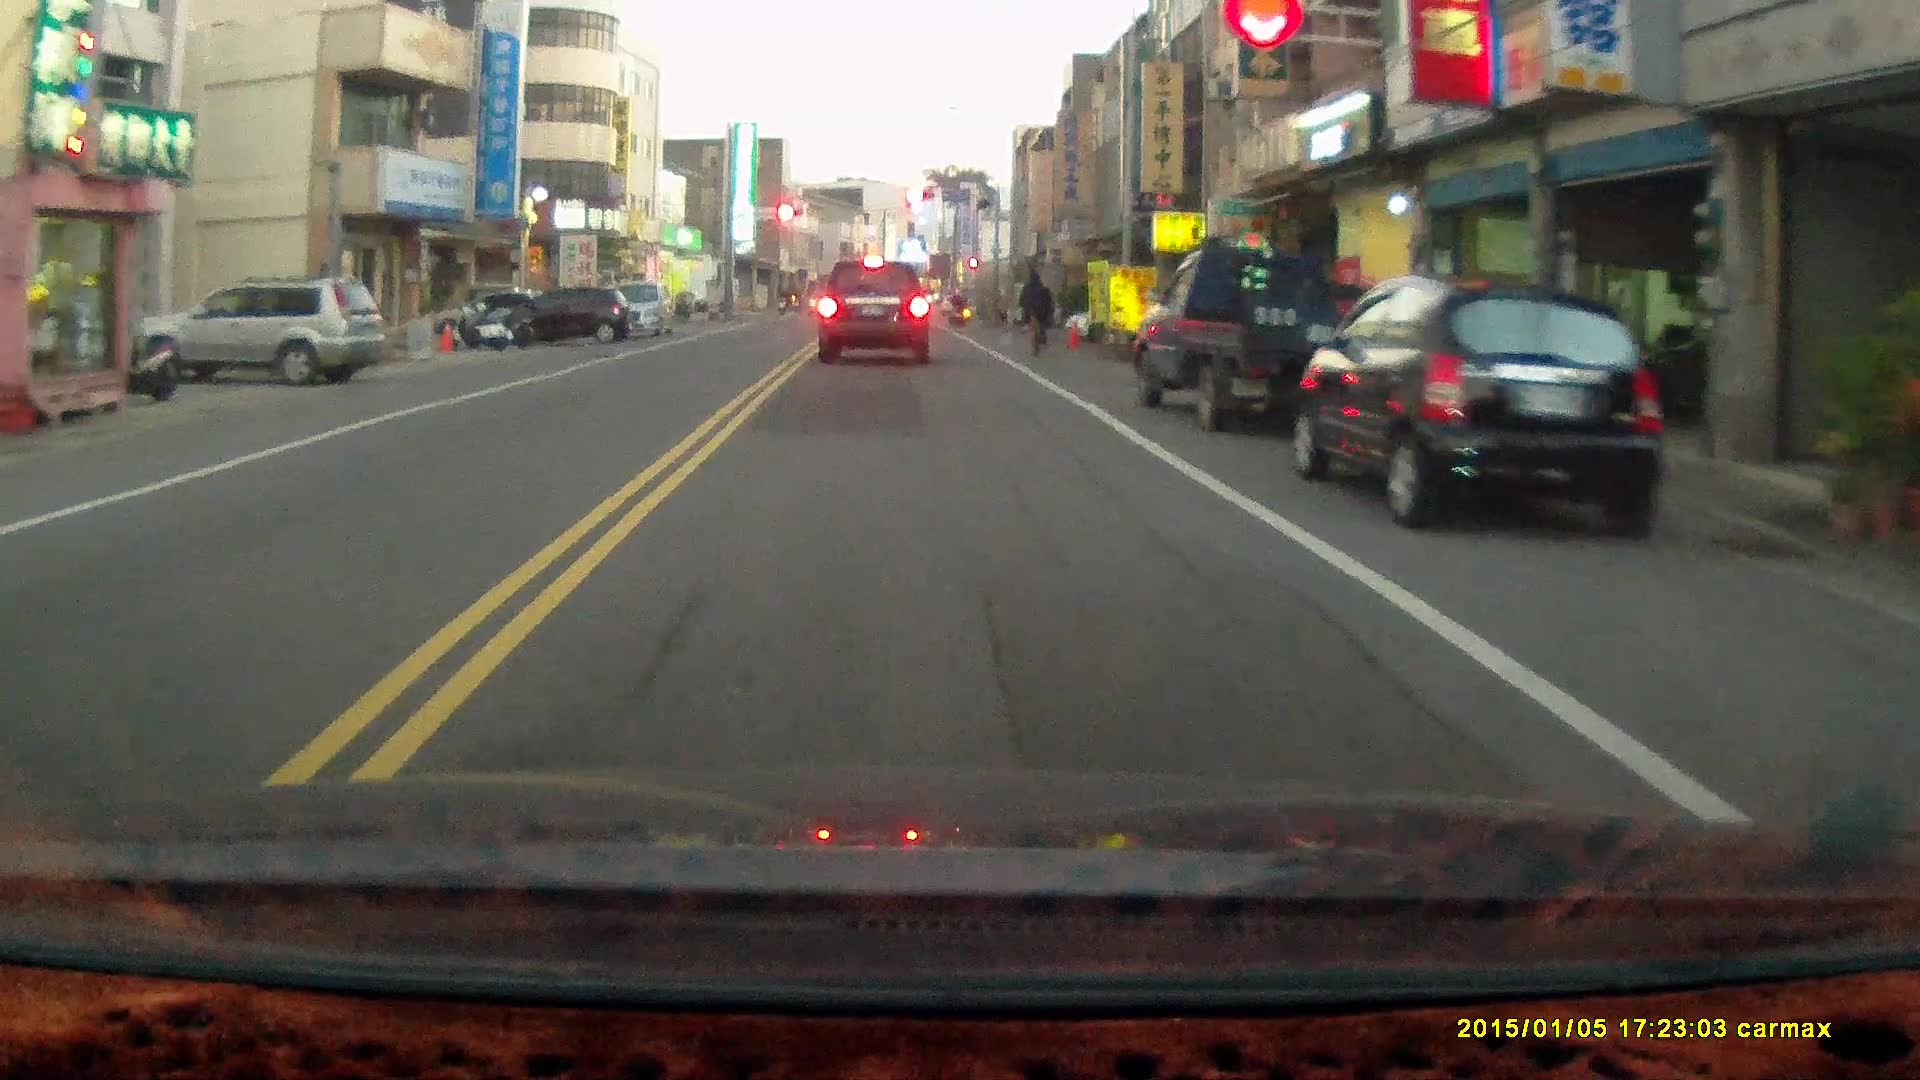rider: (1015, 266, 1057, 360)
vehicle: (1296, 273, 1670, 533), (1134, 244, 1380, 427), (132, 273, 389, 389), (816, 256, 932, 366), (501, 285, 634, 343), (588, 275, 676, 343)
